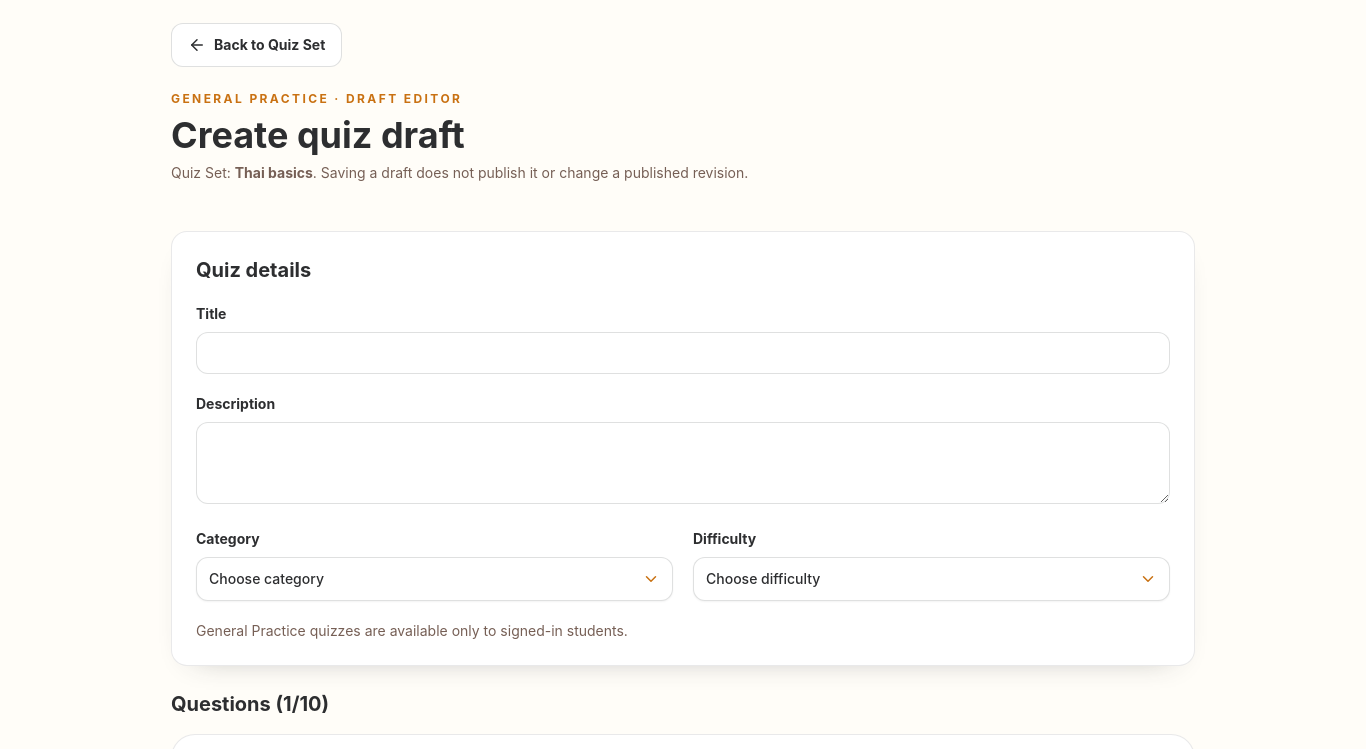
Scenario: General Practice draft editor › uses styled menus and preserves keyboard selection for category and difficulty
Expected: the text "Quiz Set:" is shown, [171,164,235,181]
Click the button "Choose category": coordinates (266, 578) [196,557,673,601]
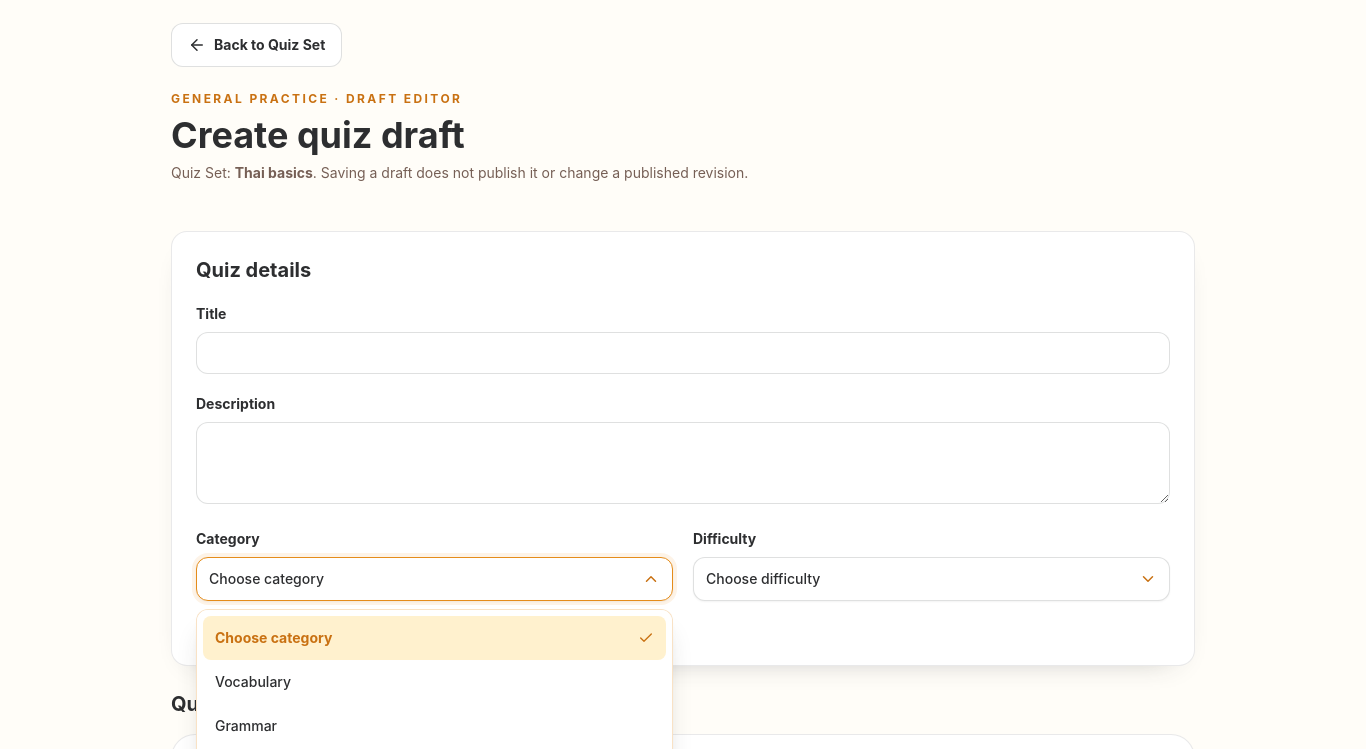
Click the option "Vocabulary": coordinates (253, 682) [203,660,666,704]
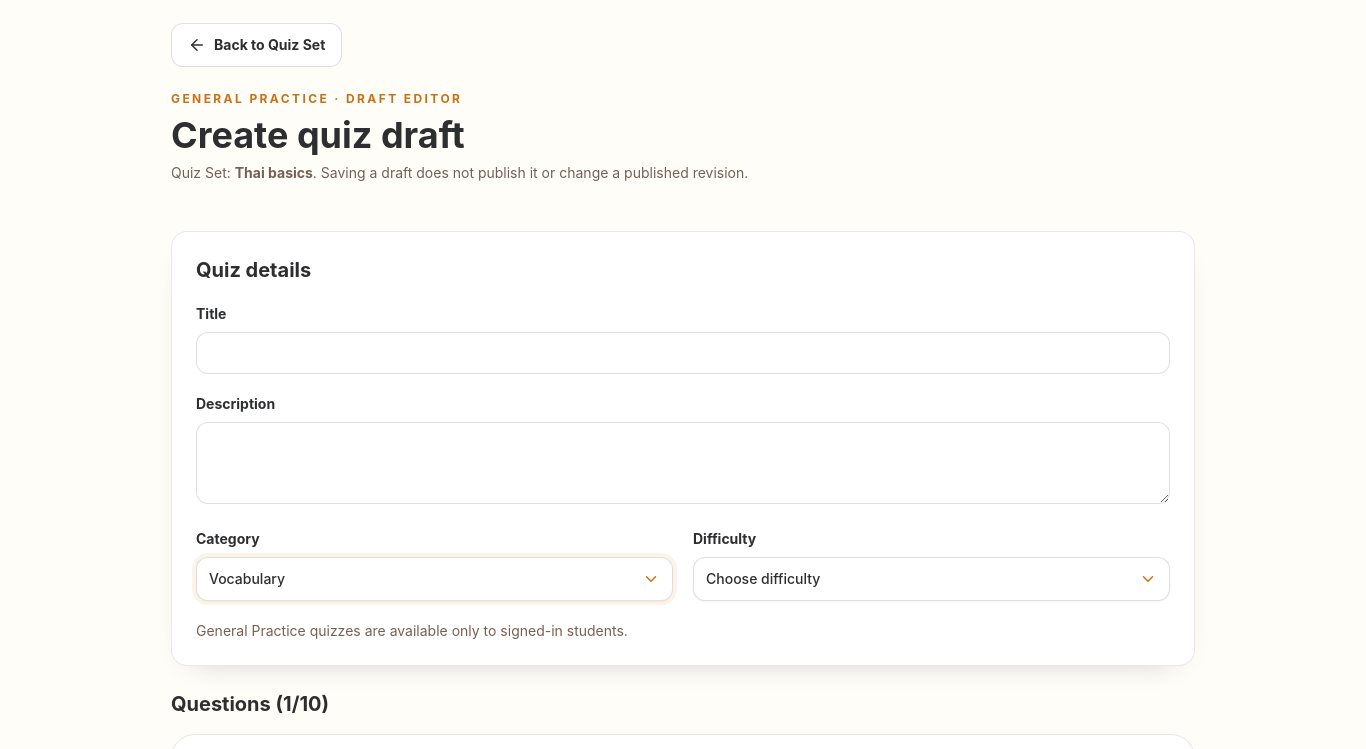
Expected: the button named "Category" reads "Vocabulary"
Click the button named "Category": coordinates (247, 578) [196,557,673,601]
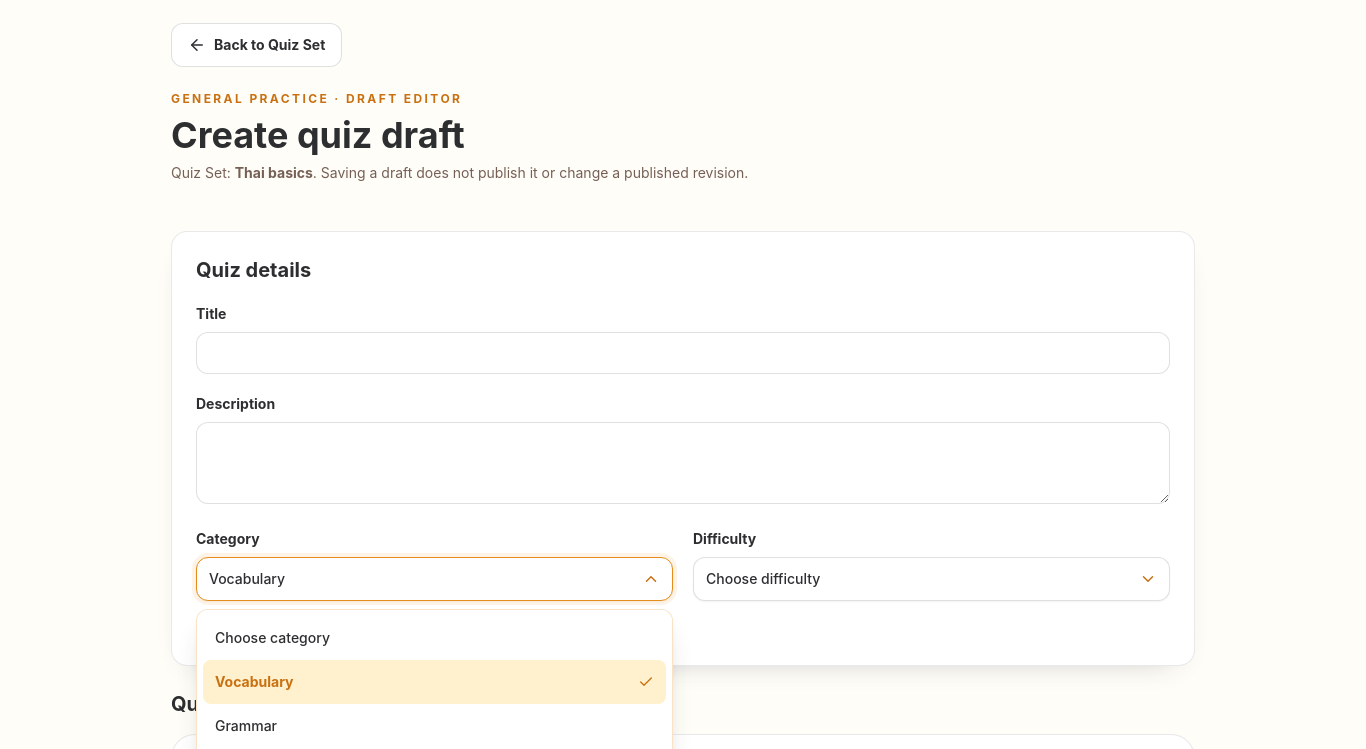
Click the option "Choose category": coordinates (272, 638) [203,616,666,660]
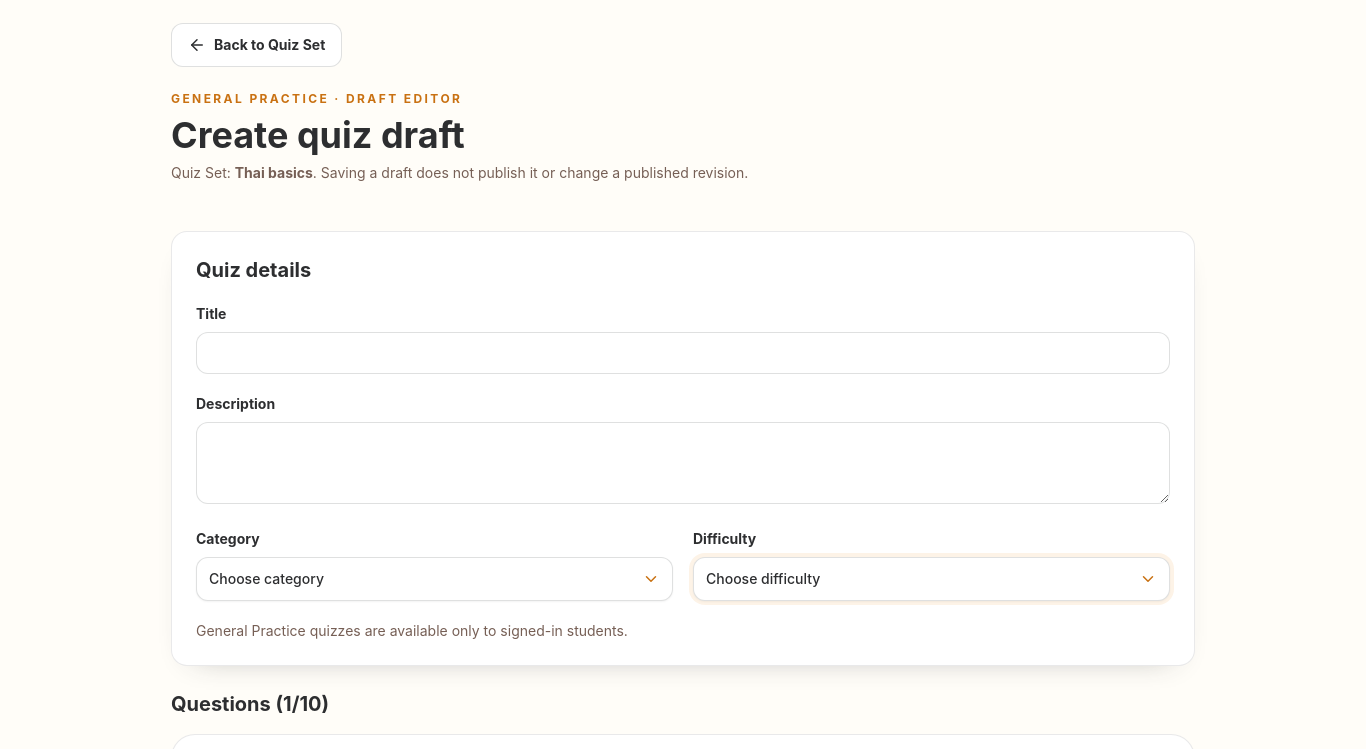
Expected: the button "Choose category" is shown, [196,557,673,601]
Press Arrowdown
(page scrolled)
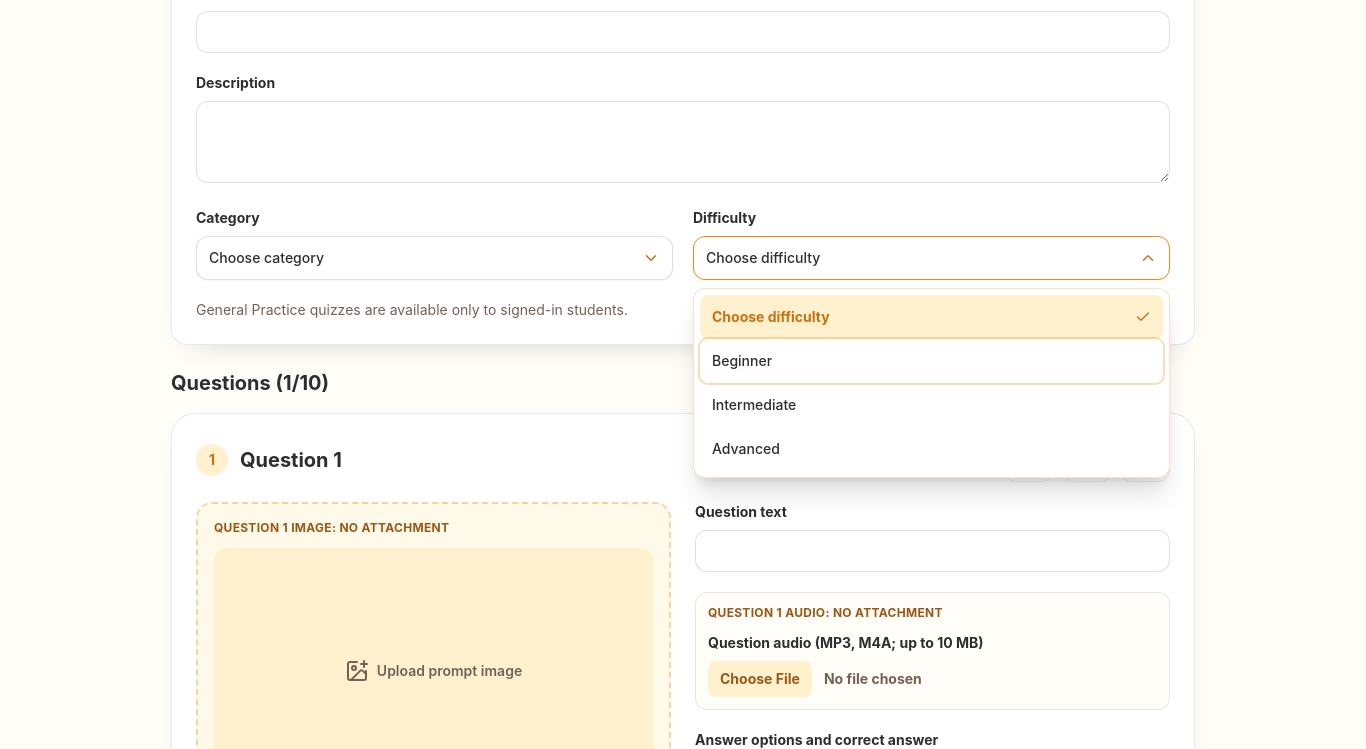
Expected: the list "difficulty" is shown, [693,288,1170,478]
Press Enter
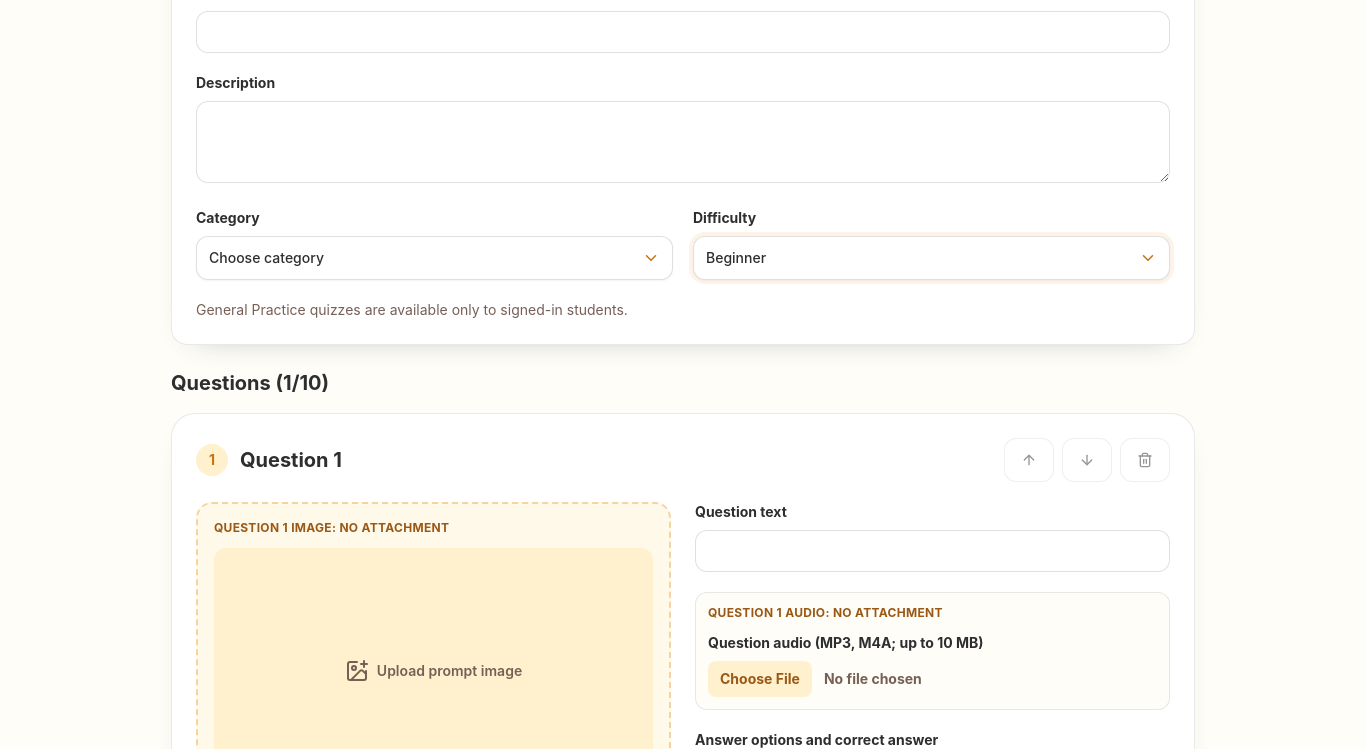
Expected: the button named "Difficulty" reads "Beginner", [693,236,1170,280]
